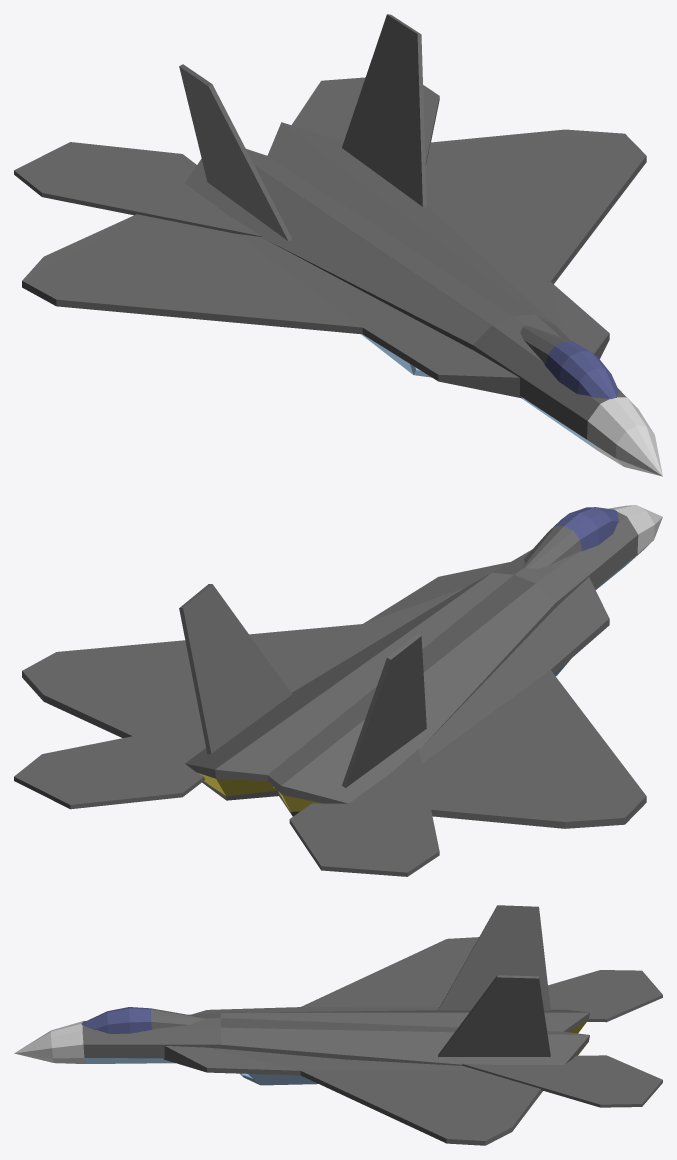
Rendered from transport_air_001.fbx.
3 renders of one model, top to bottom at view 1: azimuth 30°, elevation 25°; view 2: azimuth 150°, elevation 25°; view 3: azimuth 270°, elevation 25°, orthographic. The views are drawn at different scales.
Parts seen in each view (by area): view 1: transport_air_001; view 2: transport_air_001; view 3: transport_air_001.
Part boxes in pixels (x1,y1,x2,y2): transport_air_001: [14, 14, 662, 476]; transport_air_001: [14, 505, 662, 876]; transport_air_001: [14, 905, 662, 1145].
Bounding box in the file's own units: 1308 × 374 × 1756.
